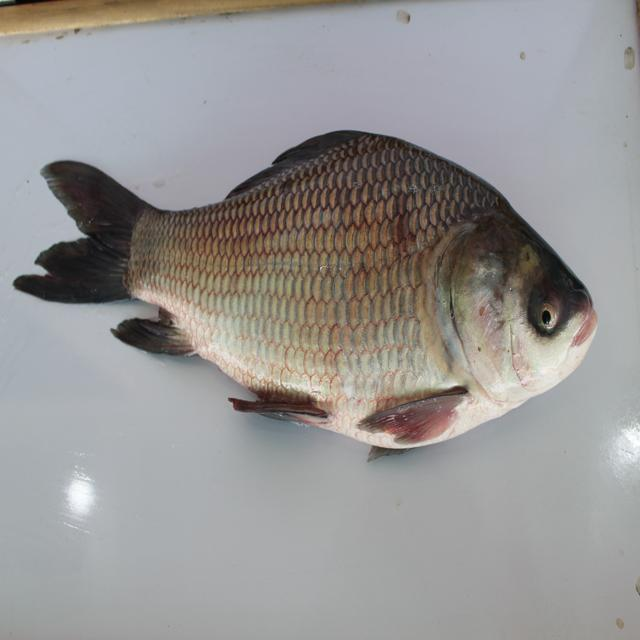Catla: (15, 123, 608, 464)
